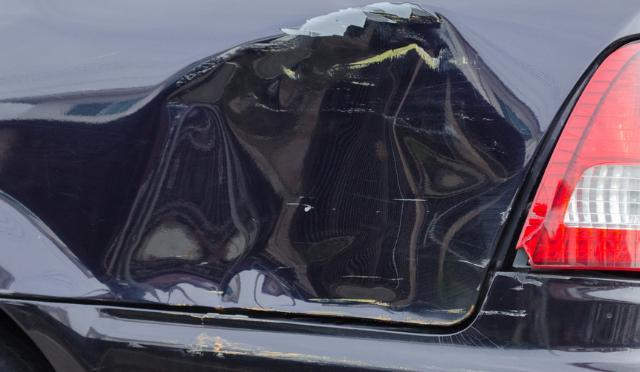Dickey: (0, 8, 497, 326)
Light: (512, 182, 584, 270)
